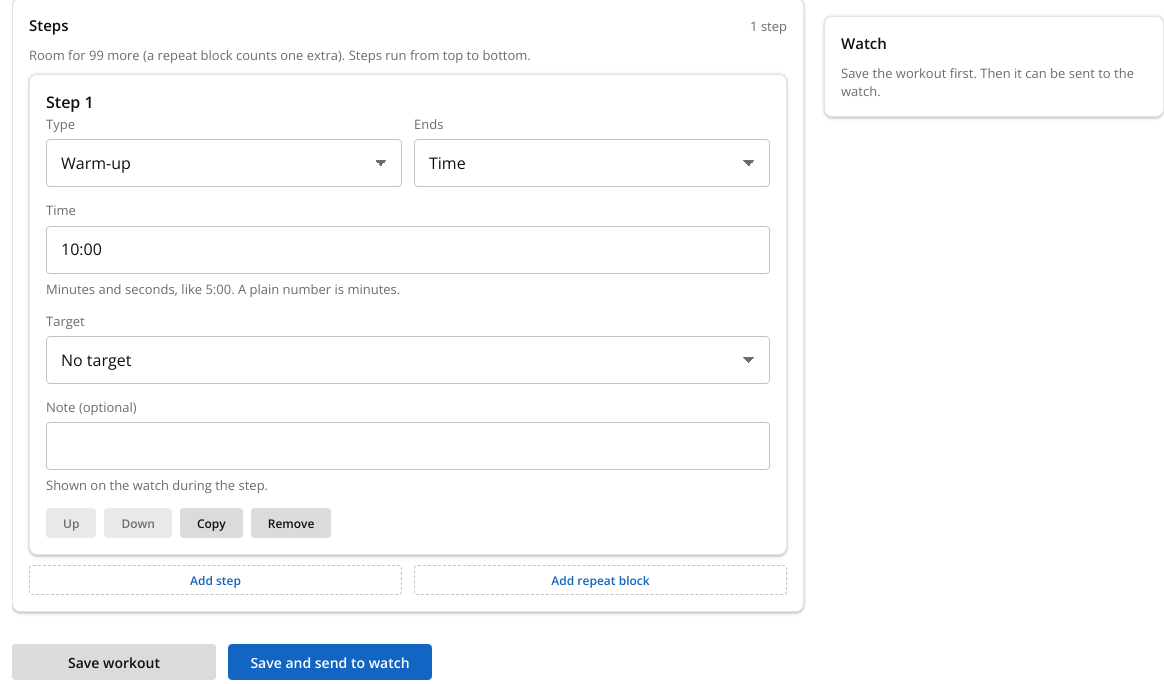
Test case: building a workout › shows the fields of the chosen target and ends
(page scrolled)
Select "Pace range" in the dropdown labelled "Target" at (408, 360), box [46,336,770,384]
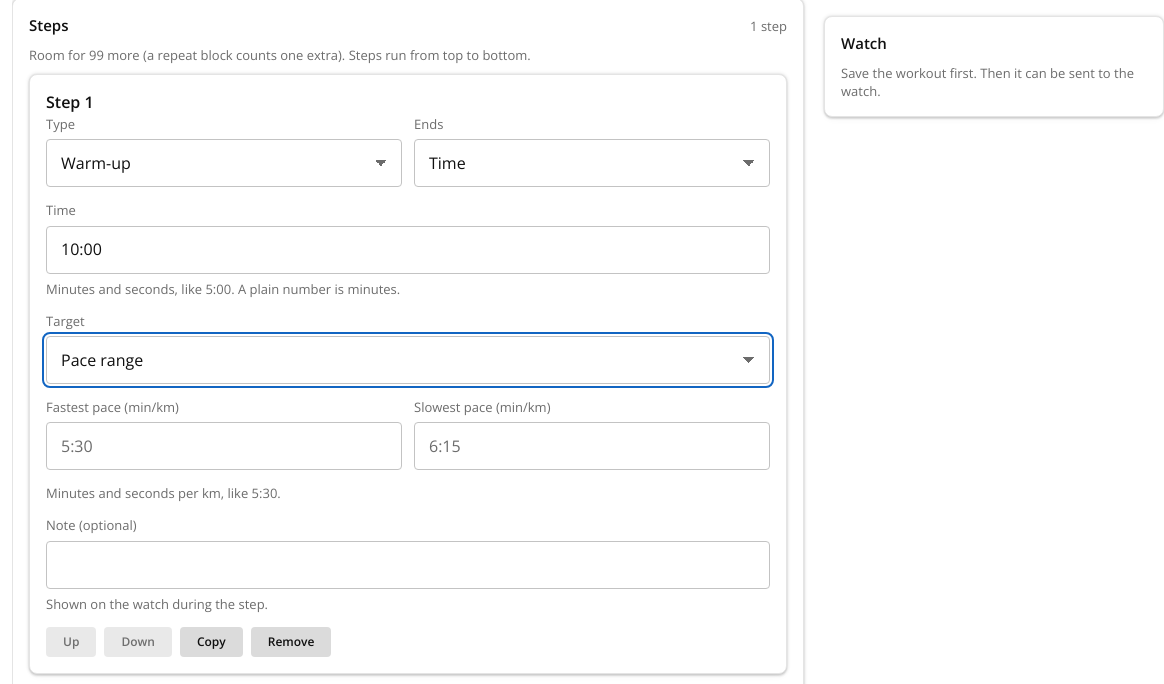
Expected: the field labelled "Fastest pace (min/km)" is shown, [46,422,402,470]
Expected: the field labelled "Slowest pace (min/km)" is shown, [414,422,770,470]
Select "Heart rate zone" in the dropdown labelled "Target" at (408, 360), box [46,336,770,384]
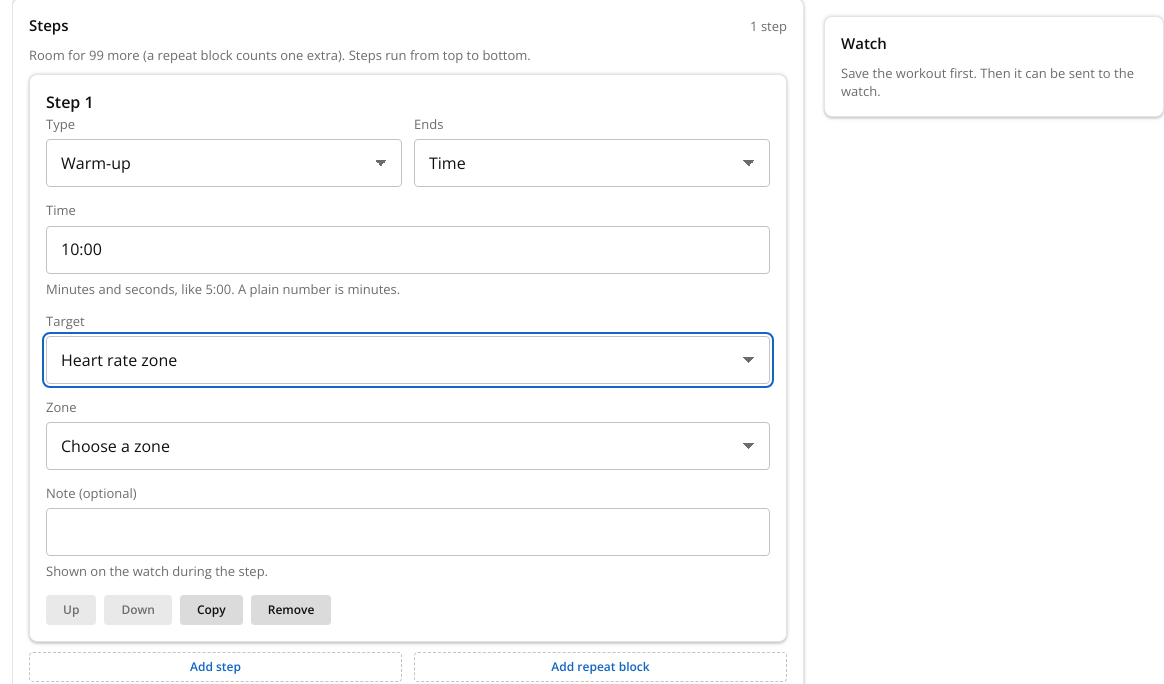
Expected: the dropdown labelled "Zone" is shown, [46,422,770,470]
Expected: the label labelled "Fastest pace (min/km)" is gone
Select "Open (until you press lap)" in the dropdown labelled "Ends" at (592, 164), box [414,140,770,188]
(page scrolled)
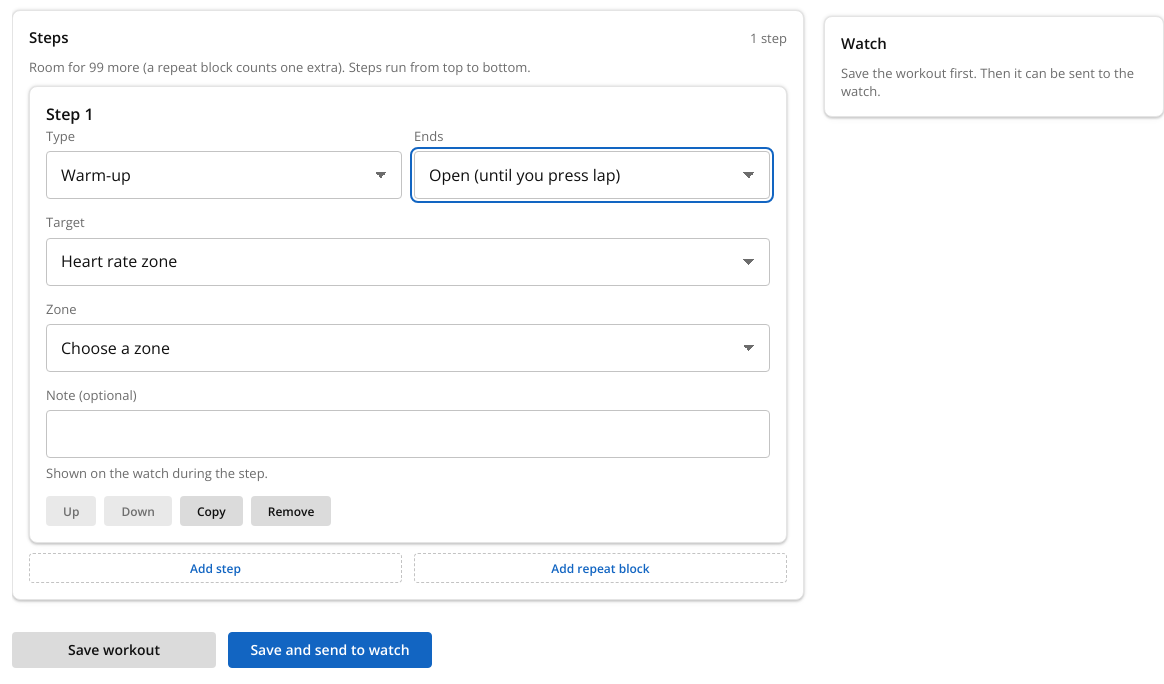
Expected: the label labelled "Time" is gone
Select "Distance" in the dropdown labelled "Ends" at (592, 176), box [414,152,770,200]
(page scrolled)
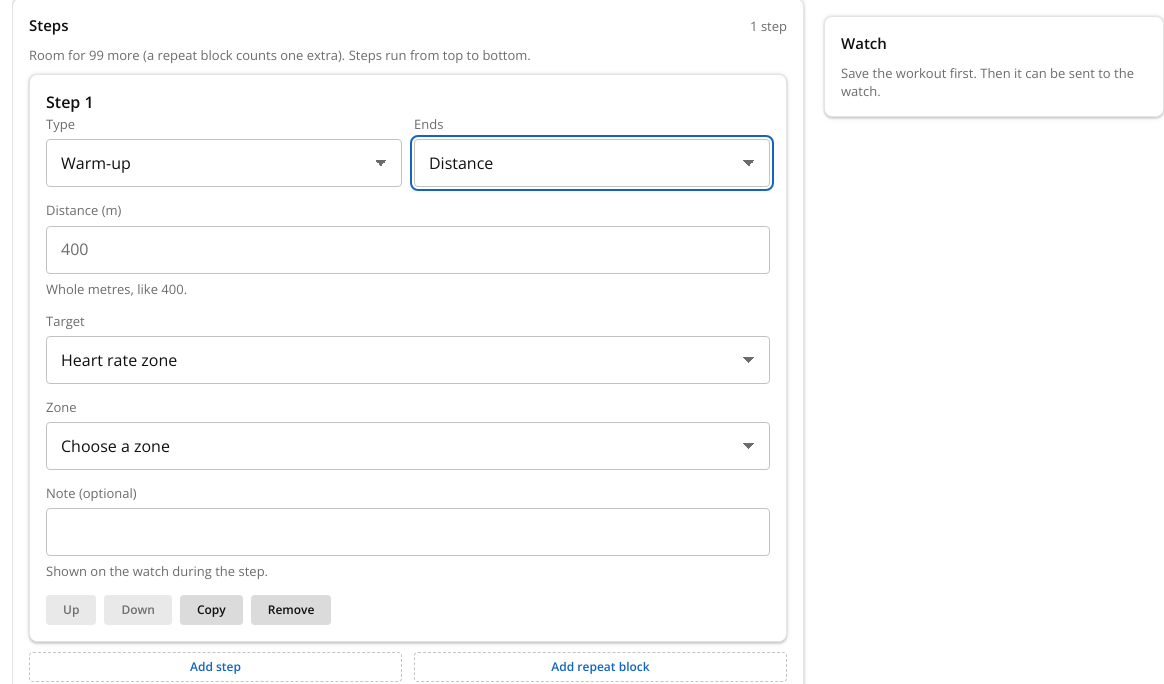
Expected: the field labelled "Distance (m)" is shown, [46,226,770,274]
